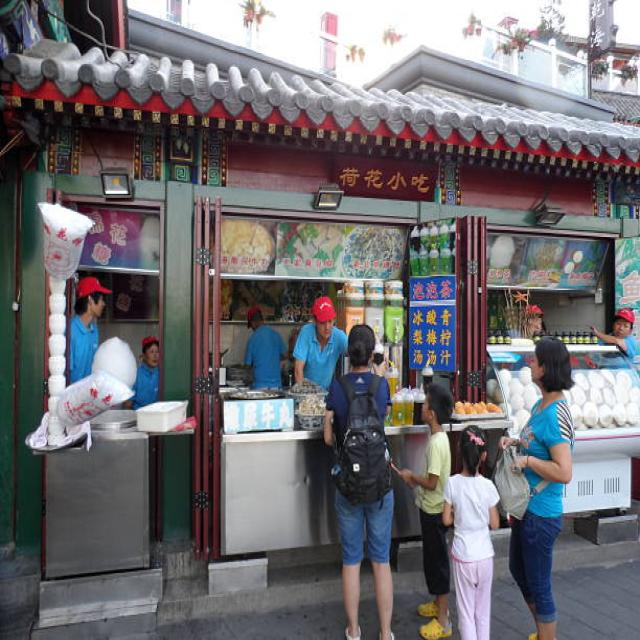Emperan: (183, 144, 640, 583)
